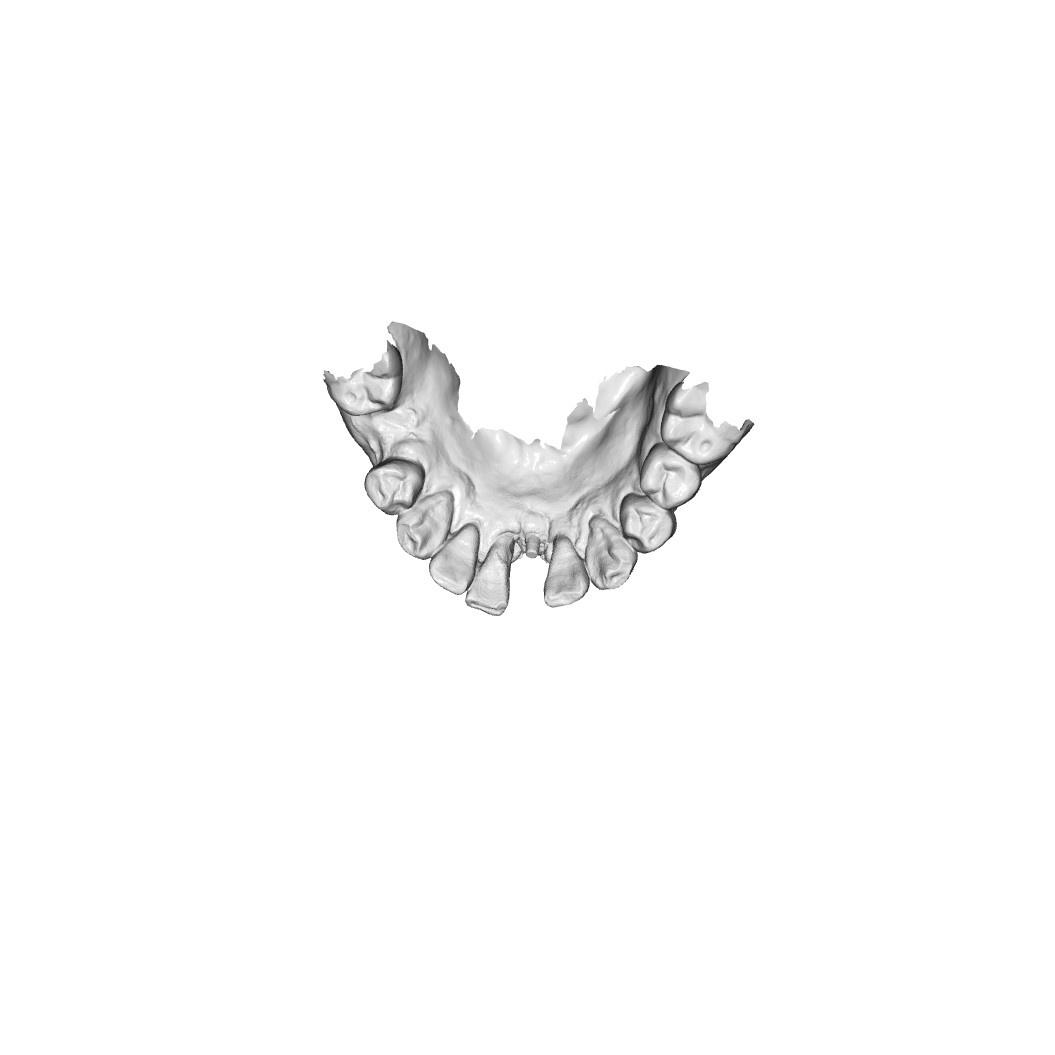abutment: (516, 523, 544, 563)
canine: (586, 521, 641, 594), (394, 497, 451, 563)
incisor: (468, 547, 512, 616), (430, 530, 475, 588), (545, 547, 586, 605)
premolar: (642, 443, 700, 509), (367, 459, 425, 514), (619, 493, 672, 551)
